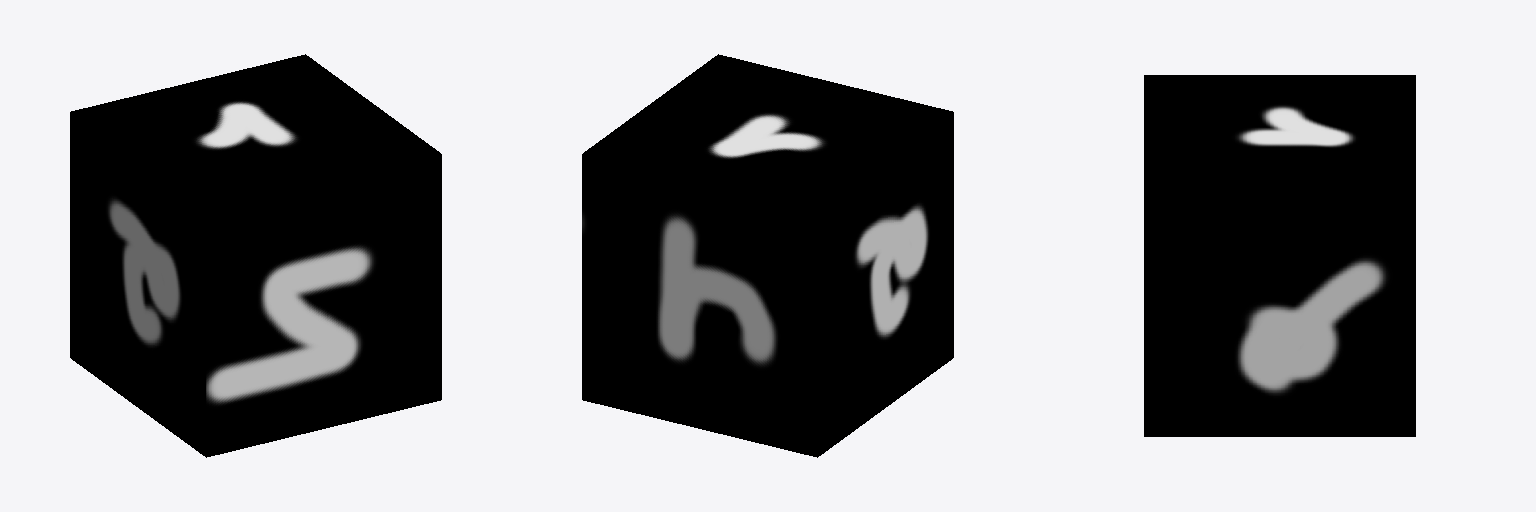
The picture shows the model from 3 angles: view 1: azimuth 30°, elevation 25°; view 2: azimuth 150°, elevation 25°; view 3: azimuth 270°, elevation 25°; orthographic projection.
Visible parts, largest first — view 1: Cube; view 2: Cube; view 3: Cube.
Part boxes in pixels (x1,y1,x2,y2): Cube: (70,54,441,457); Cube: (582,54,953,457); Cube: (1144,75,1415,436).
Size of the model in its own units: 2 by 2 by 2.
Materials: 1 (1 with a texture image).